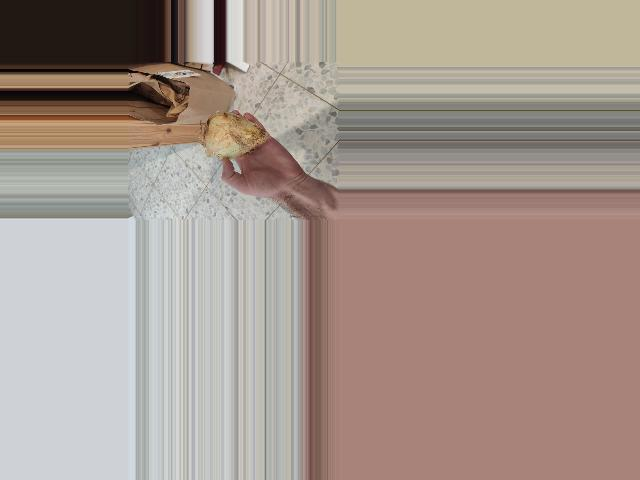onion: (201, 111, 268, 162)
